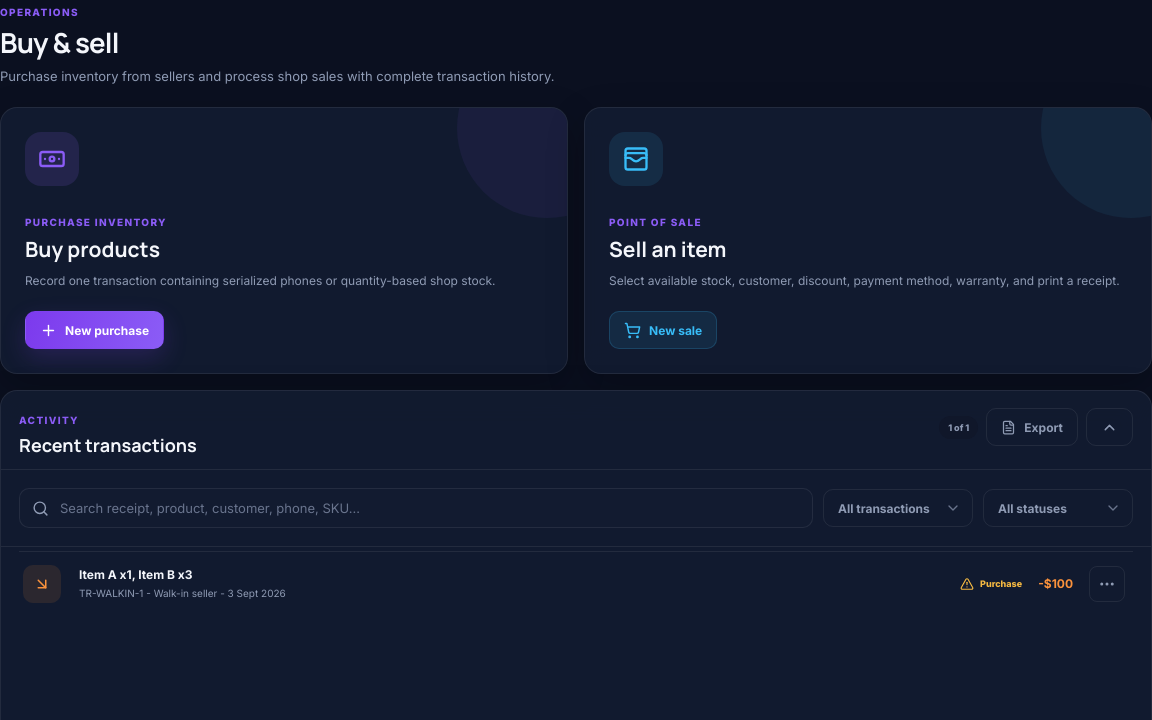
it: TradePage feature integration › renders trade detail modal with non-restock refund, walk-in party, missing phone, and multiple items
The width and height of the screenshot is (1152, 720).
Expected: the text "TR-WALKIN-1 - Walk-in seller - 3 Sept 2026" is shown, left=79, top=587, right=286, bottom=599
Click the button with aria-label "View TR-WALKIN-1" at (42, 584), box left=19, top=552, right=1133, bottom=616
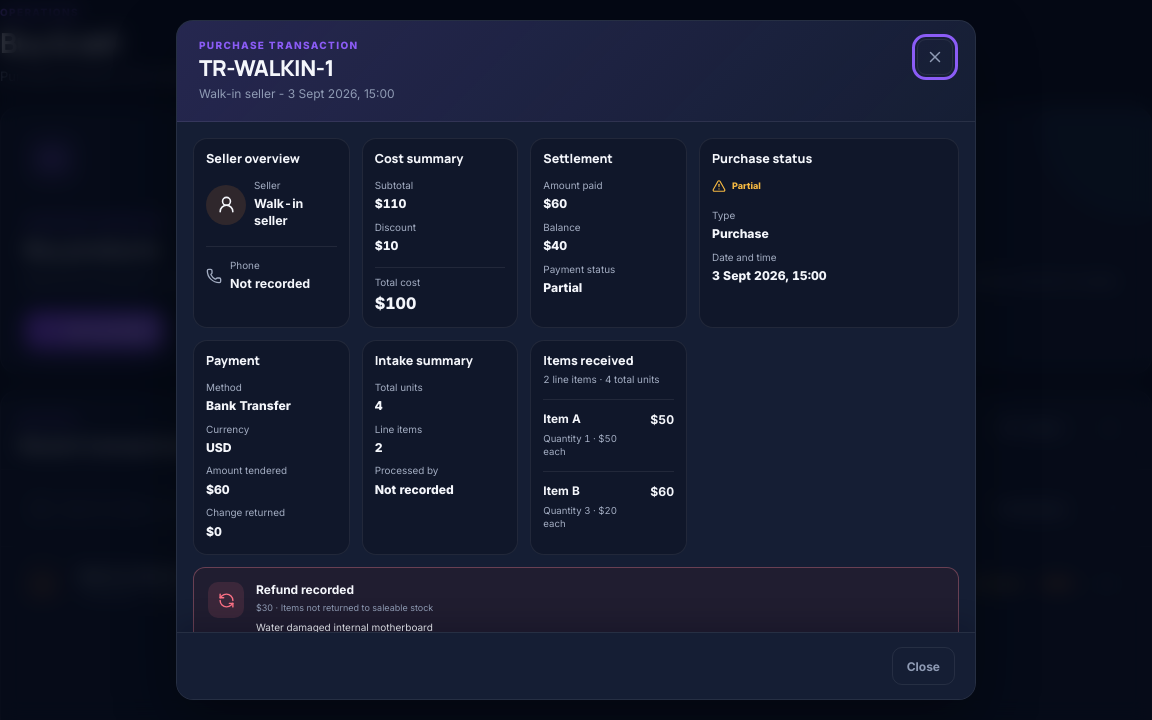
Now the dialog is shown
Now the text "Walk-in seller" is shown, box left=254, top=196, right=303, bottom=228
Now the element showing "Phone Not recorded" is shown, box left=206, top=246, right=337, bottom=293
